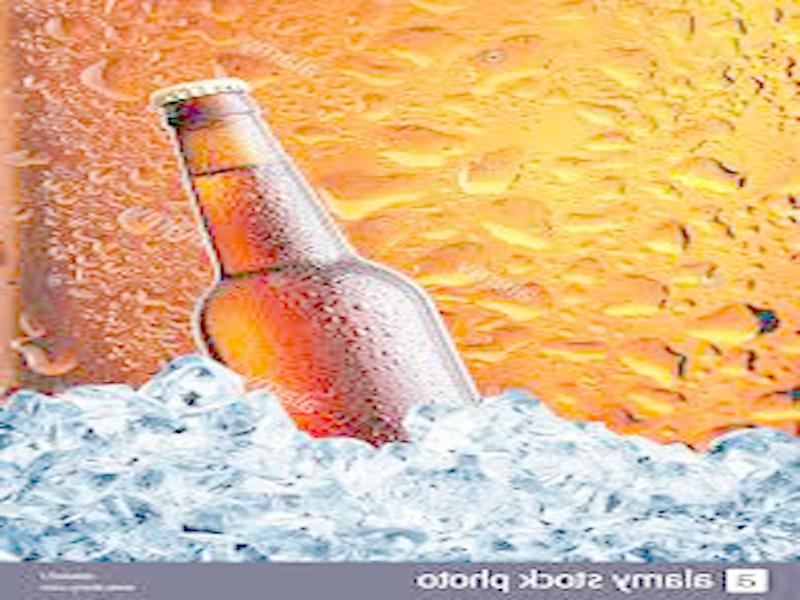Beer: (133, 77, 474, 450)
